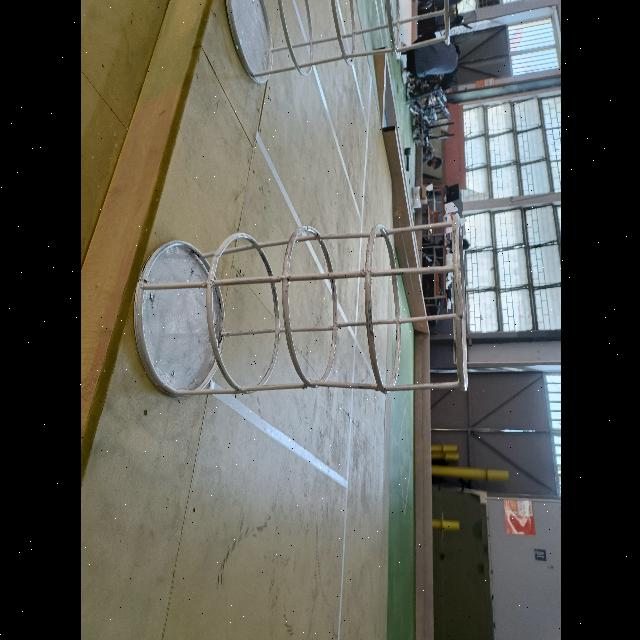S: (131, 214, 469, 397), (223, 0, 449, 84)
